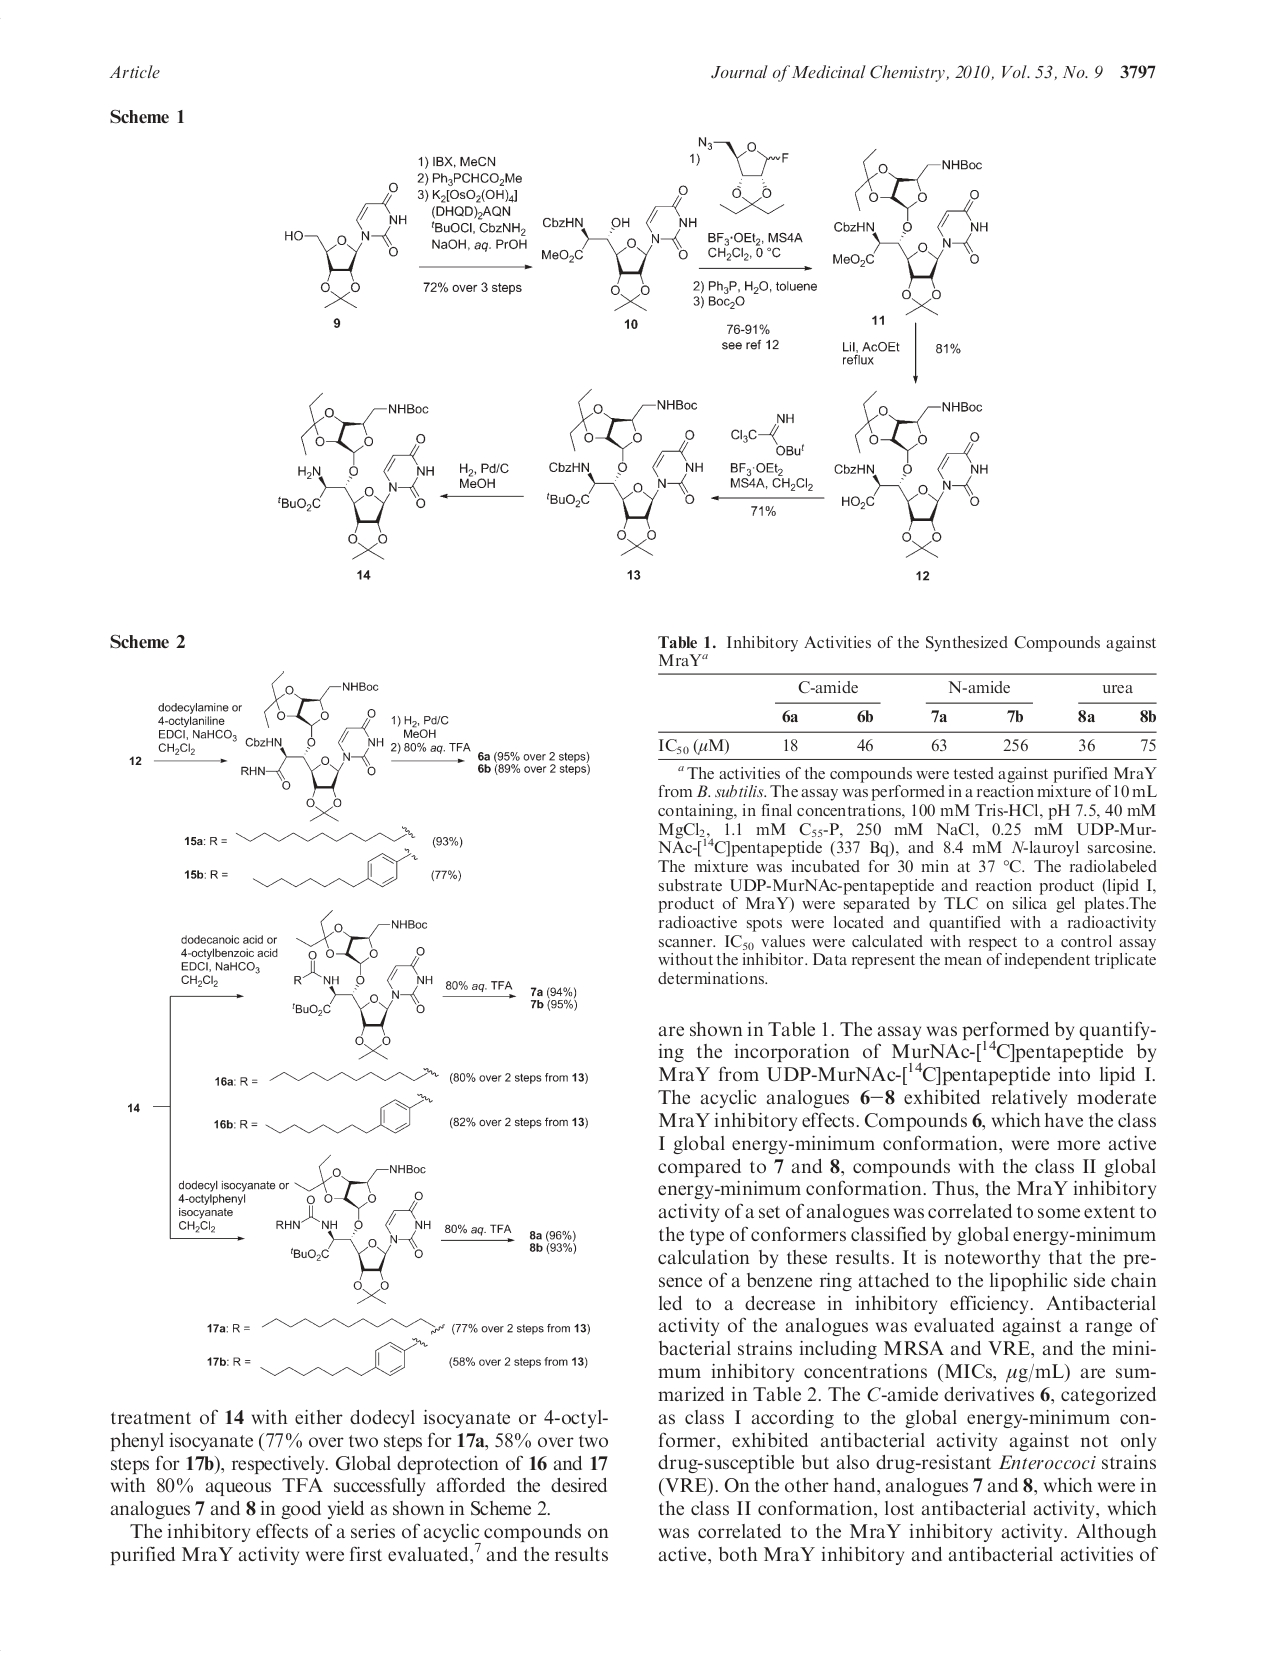exist_molecular: (543, 388, 703, 559), (277, 391, 434, 563), (828, 148, 985, 315), (834, 390, 985, 560), (275, 1150, 431, 1306), (235, 669, 386, 825), (287, 908, 430, 1061), (282, 180, 410, 309), (263, 1091, 438, 1140), (251, 844, 419, 892), (697, 136, 793, 215), (258, 1337, 434, 1378), (258, 1315, 451, 1338), (730, 406, 809, 457), (234, 823, 416, 844), (270, 1063, 439, 1084)
